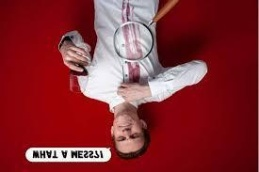wine: (128, 0, 140, 90), (120, 1, 134, 46)
